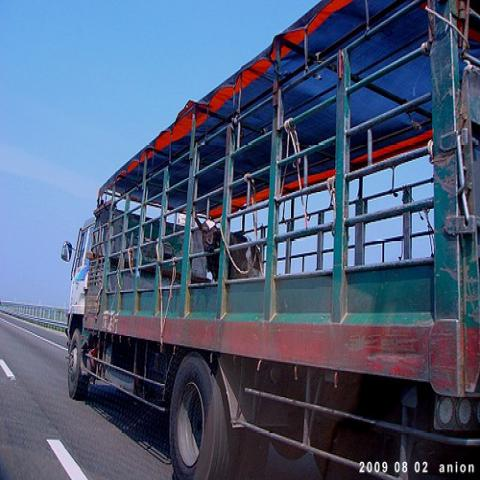truck: (61, 0, 479, 479)
